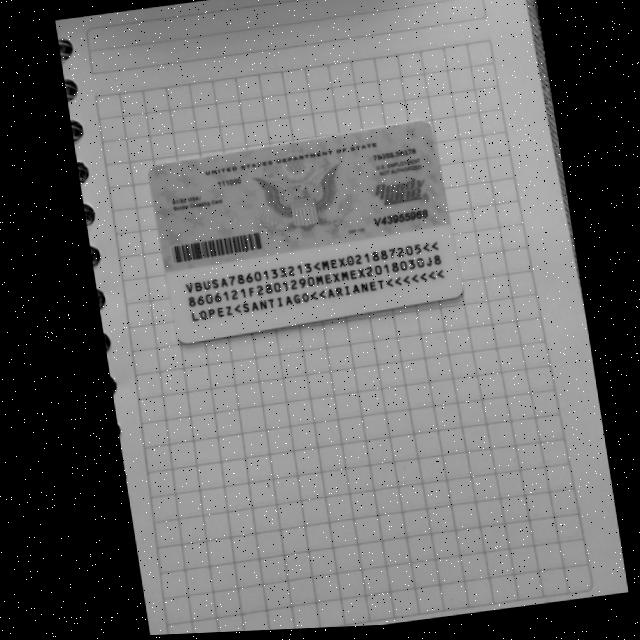card: (149, 122, 462, 342)
